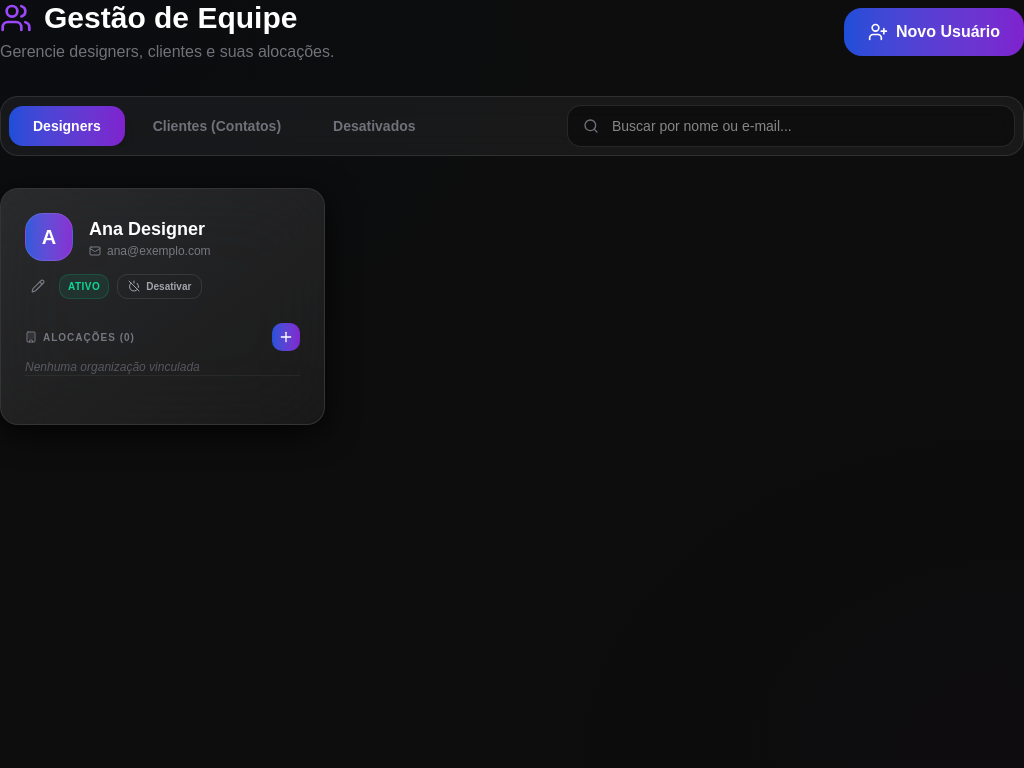
it: TeamPage › usuário ativo › não desativa sem passar pela confirmação
Click the button "Desativar" at (160, 286), box [117,274,202,298]
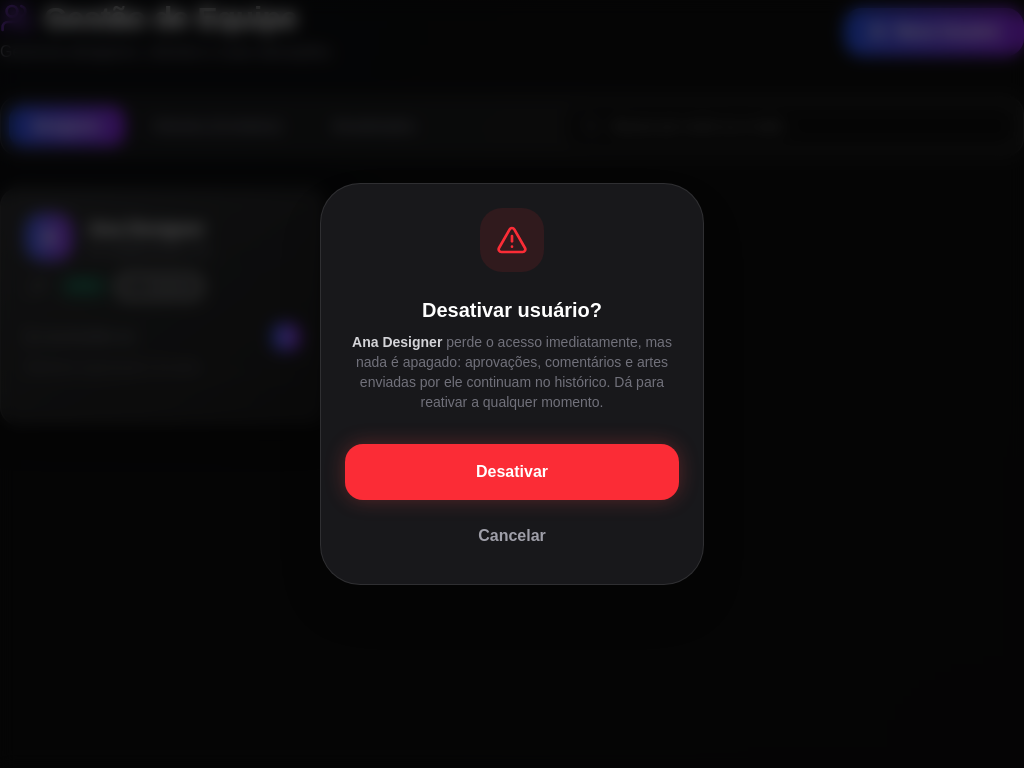
Expected: the heading "Desativar usuário?" is shown, [422,299,602,321]
